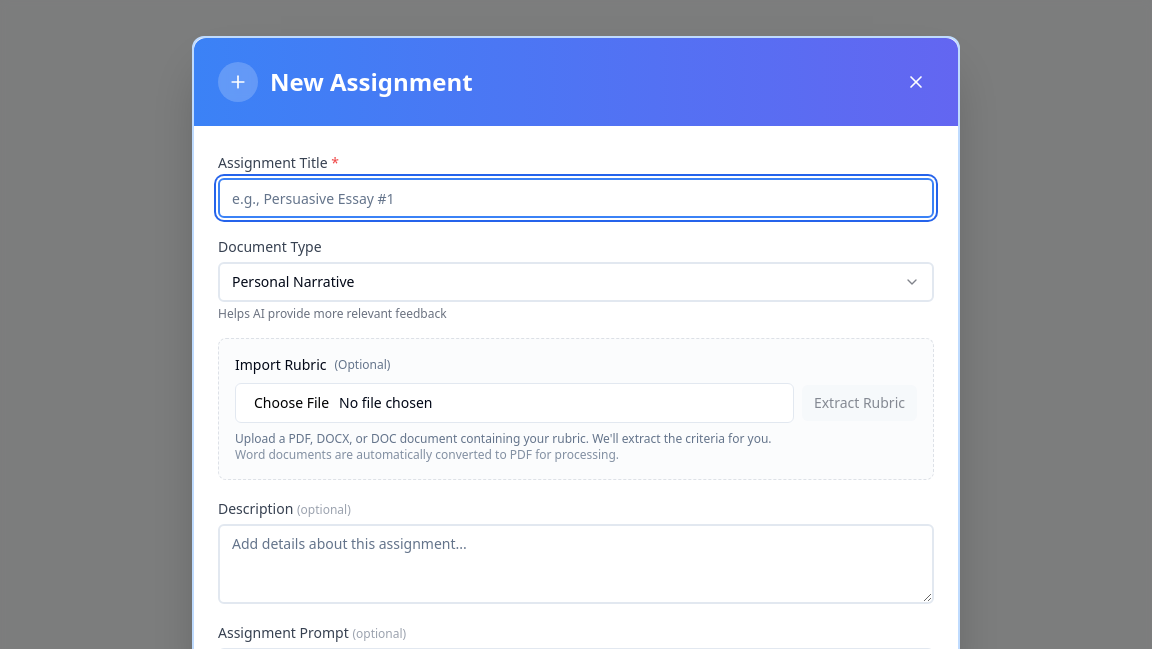
Test case: CreateAssignmentModal Component › Form Submission › should show loading state during submission
Step 1. Type "Test" into the field labelled "Assignment Title *" → [576, 198], box [218, 178, 934, 218]
(page scrolled)
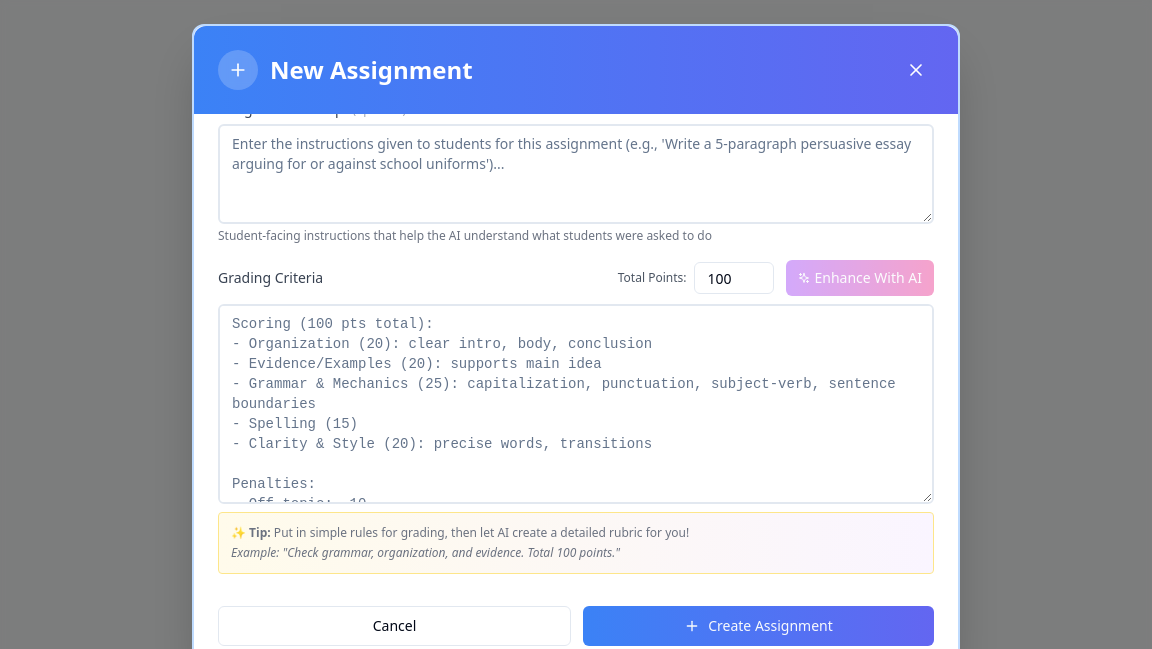
Step 2. Click the button "Create Assignment" → [758, 626], box [583, 606, 934, 646]
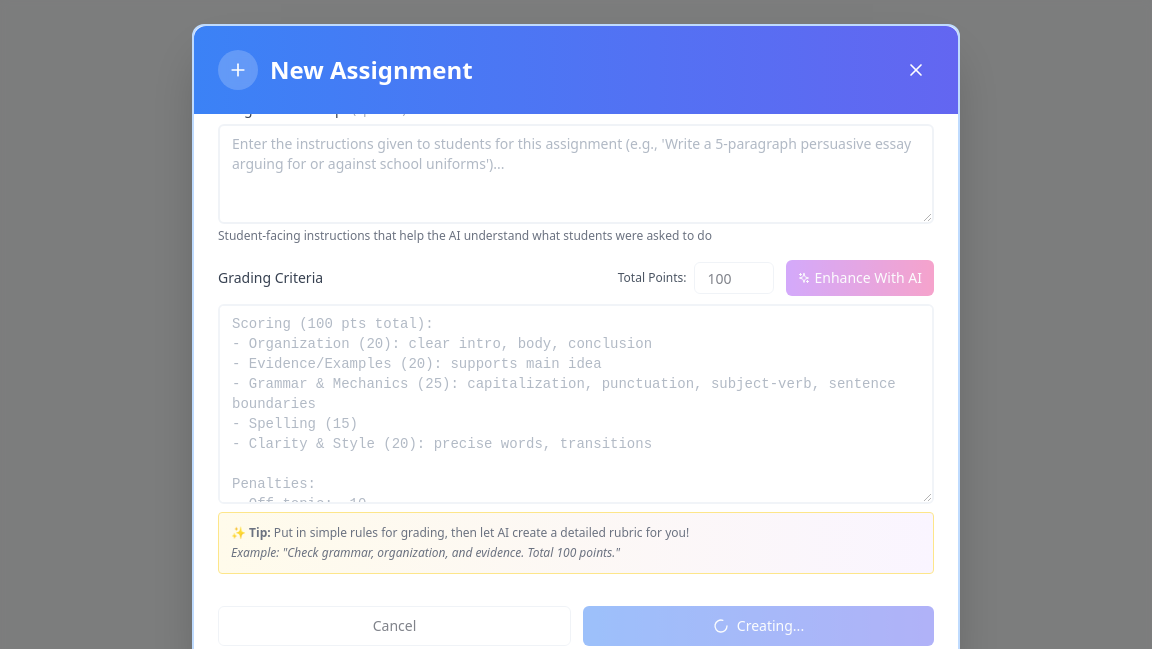
expect the button "Creating..." is shown: met, box [583, 606, 934, 646]
